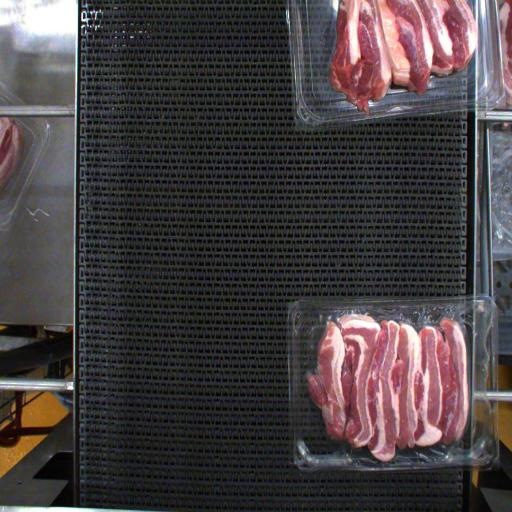unsealed: (304, 302, 492, 464)
